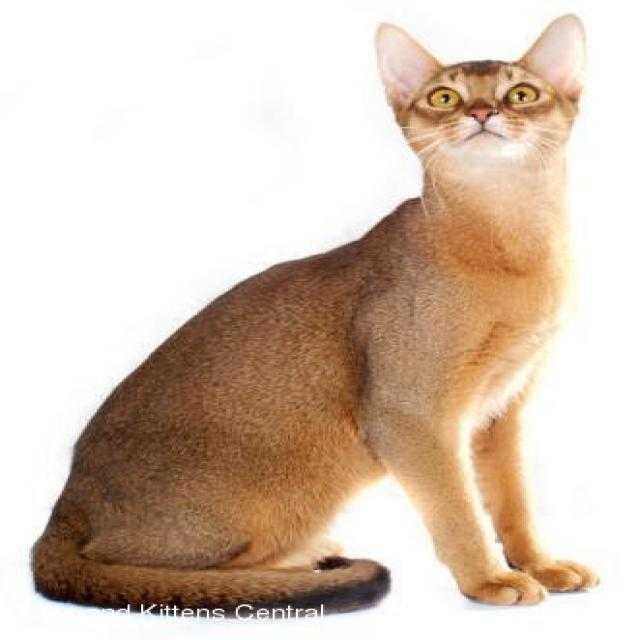Abyssinian: (364, 0, 612, 179)
